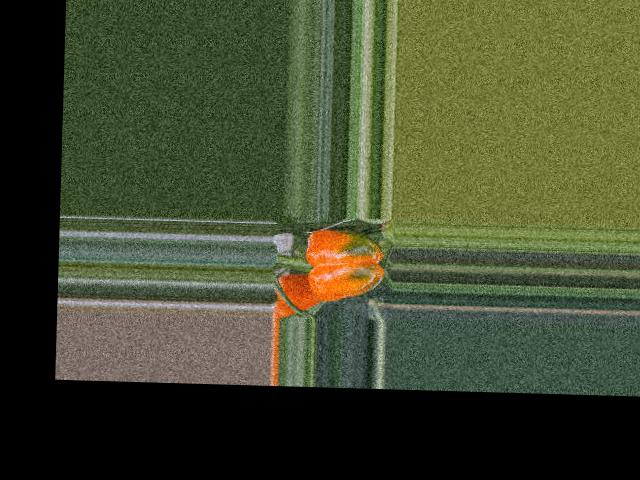bell_pepper: (295, 219, 391, 306)
